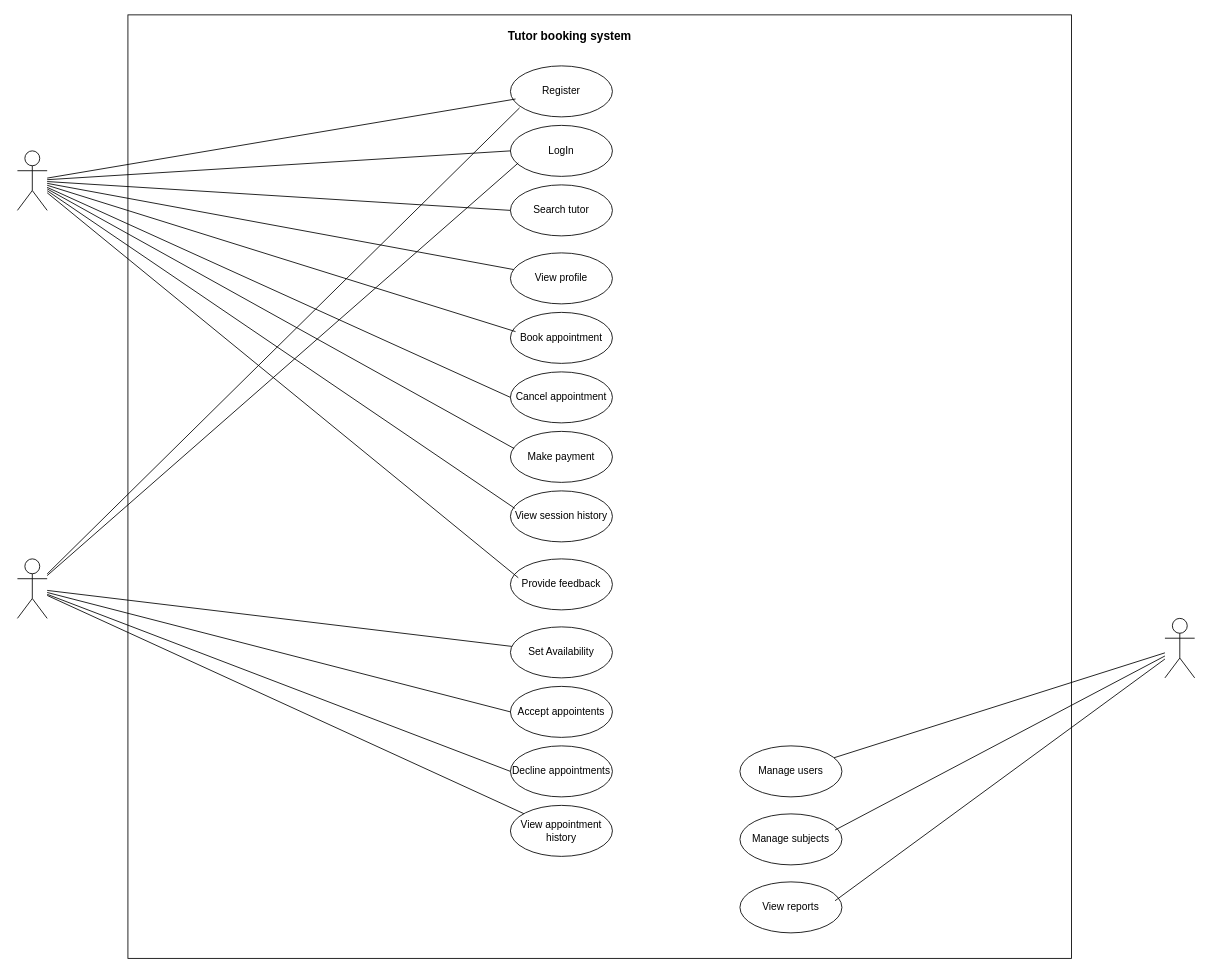
Image size: 1210x973. Some labels were removed from this diagram. The shapes that lost their labels are listed below. From the top down, each one's centre as x and y in pixels, then its label:
At (32,180): "Student".
At (32,588): "Tutor".
At (1179,648): "Admin".
